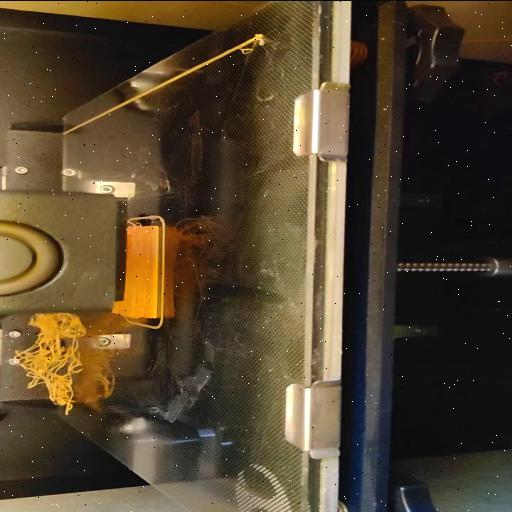spaghetti: (13, 315, 92, 417)
